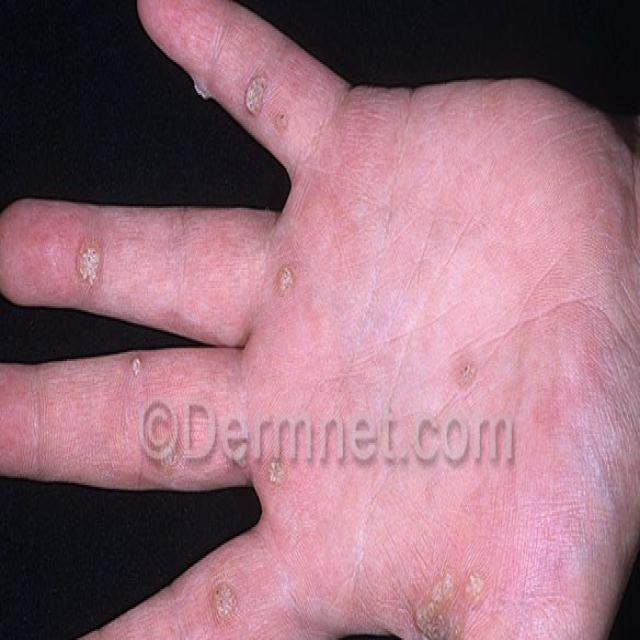Warts: (432, 355, 509, 445), (153, 402, 190, 481), (271, 256, 310, 327), (75, 230, 108, 303), (243, 66, 272, 141), (206, 580, 241, 626)
